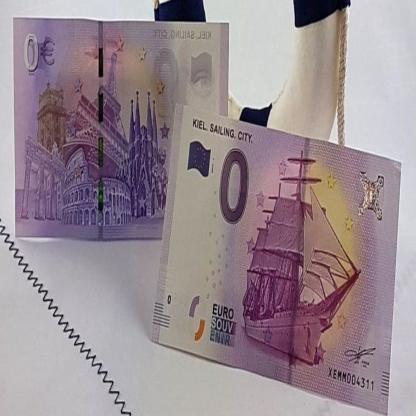billete: (147, 100, 403, 415), (11, 13, 230, 244)
